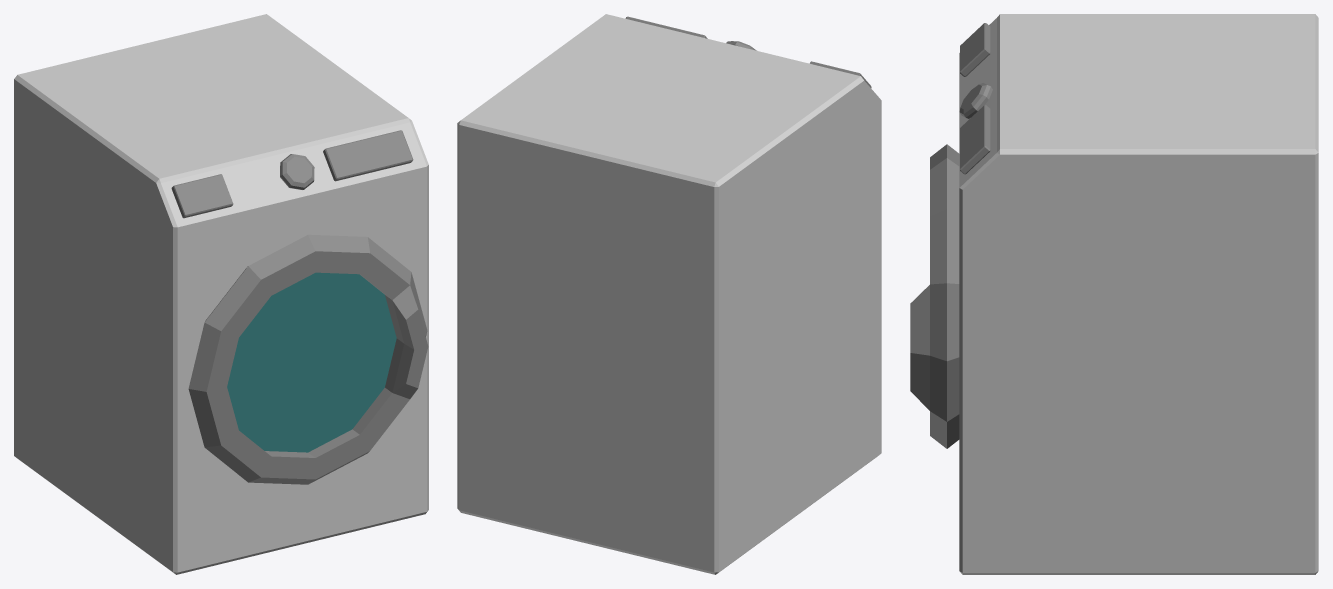
The model's file is washing_machine.gltf.
3 views of the same model, side by side, from view 1: azimuth 30°, elevation 25°; view 2: azimuth 150°, elevation 25°; view 3: azimuth 270°, elevation 25° (orthographic). The views are drawn at different scales.
Parts seen in each view (by area): view 1: Washing machine, Washing machine.001; view 2: Washing machine; view 3: Washing machine, Washing machine.001.
Part boxes in pixels (<box>): Washing machine: <box>14,14,428,574</box>; Washing machine.001: <box>188,234,428,484</box>; Washing machine: <box>457,14,881,574</box>; Washing machine: <box>959,14,1318,574</box>; Washing machine.001: <box>910,144,959,448</box>.
Size of the model in its own units: 3.05 by 4.37 by 3.8.
